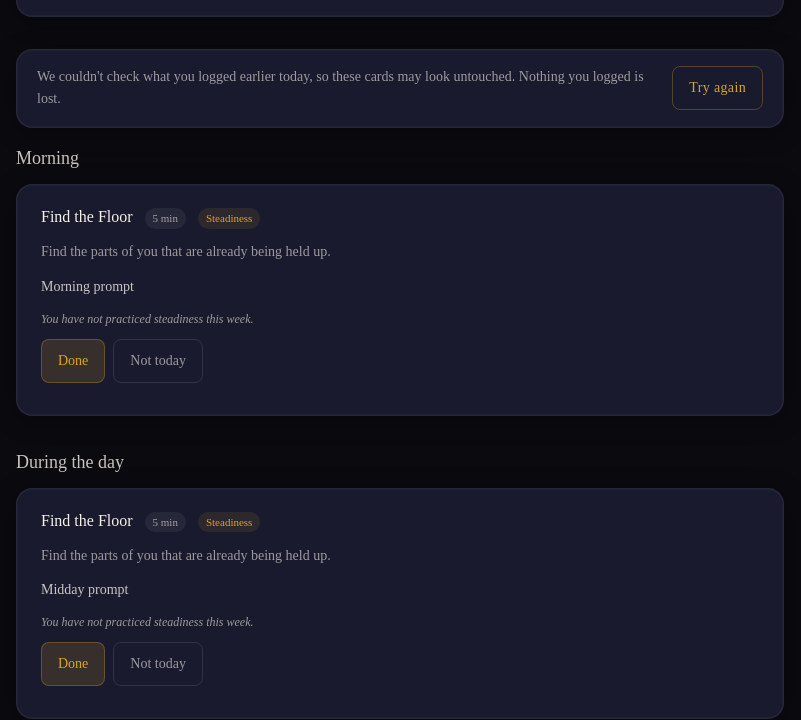
Test: PracticePage hydration › merges a re-read log into the cards in place
(page scrolled)
Expected: the text "may look untouched" is shown, [37,68,644,106]
Click the button "Done" below "Morning prompt" at (73,360), box [41,338,105,382]
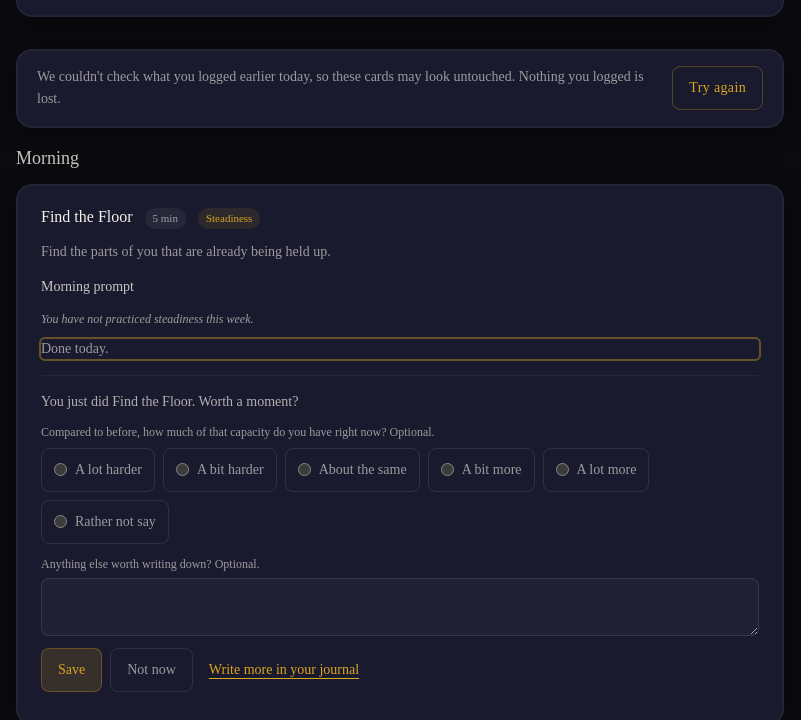
Click the button "Try again" at (718,88), box [672,66,763,110]
(page scrolled)
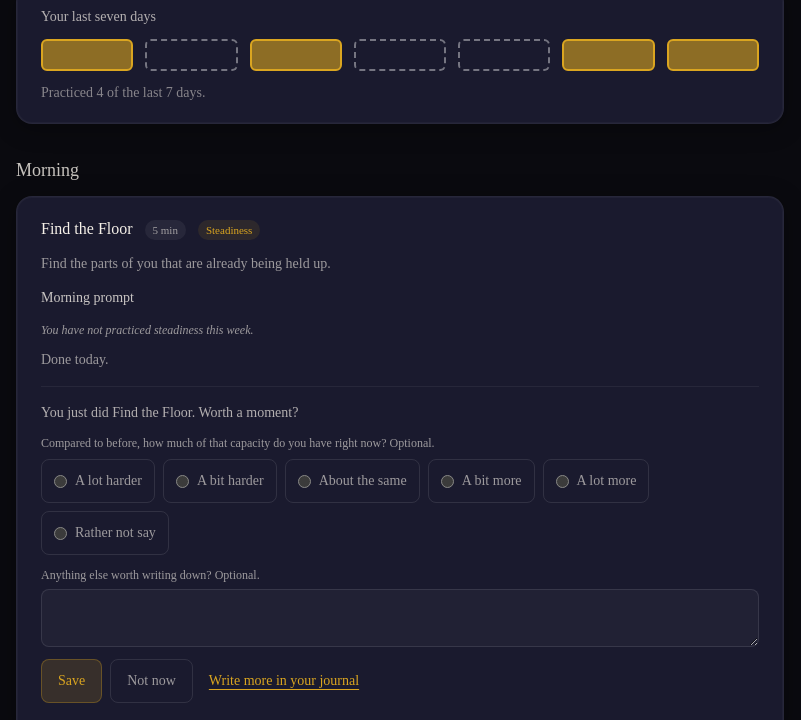
Now the text "Done today." is shown, box [41,352,108,367]
Now the text "Done today." is shown 2 times
